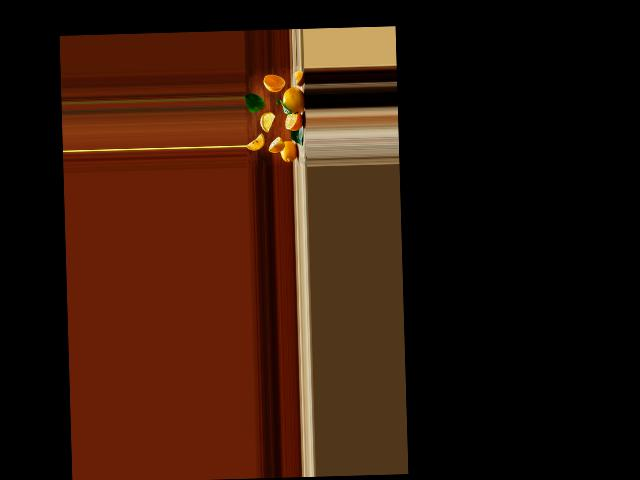lemon: (278, 139, 297, 164)
